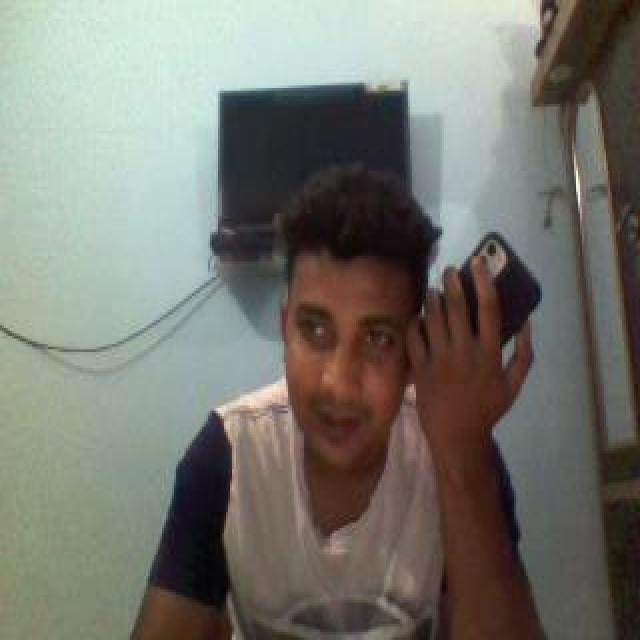phone: (425, 233, 544, 387)
